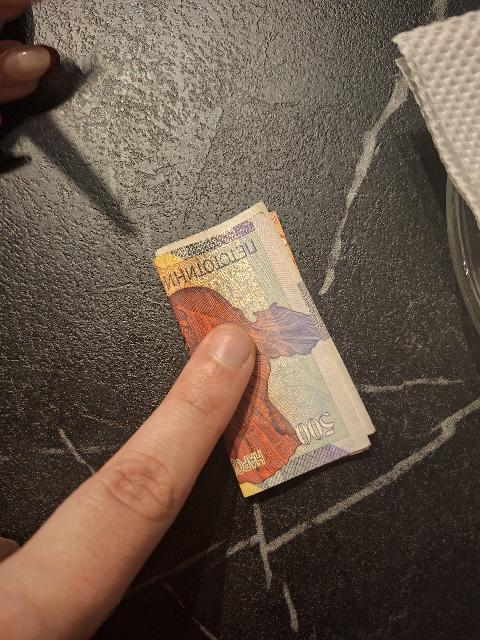500_note: (155, 203, 374, 495)
